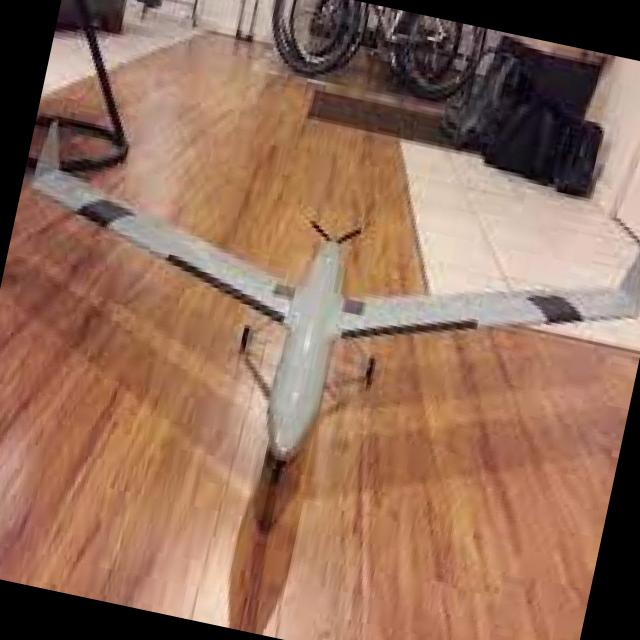UAV: (21, 135, 614, 534)
